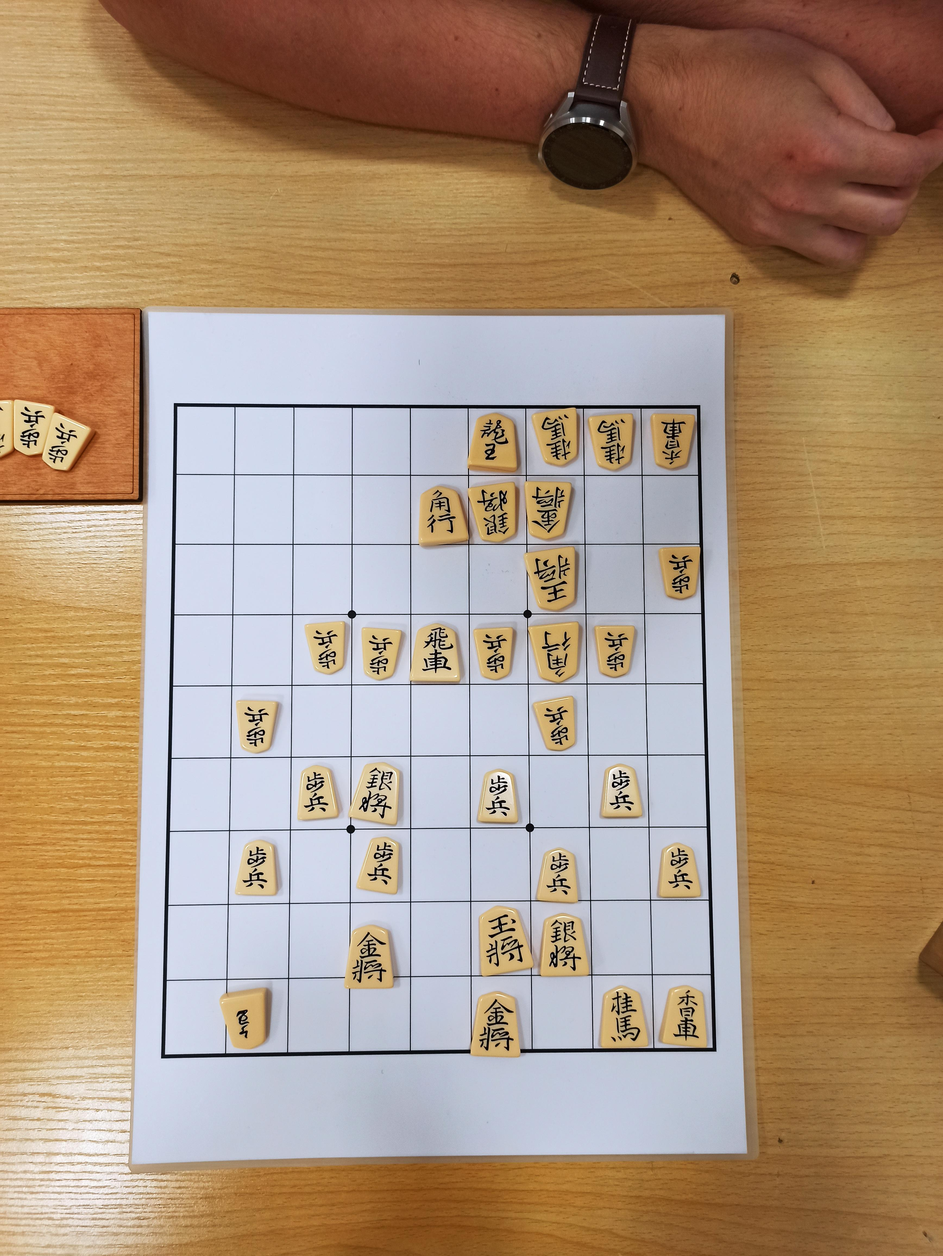board: (163, 405, 716, 1055)
